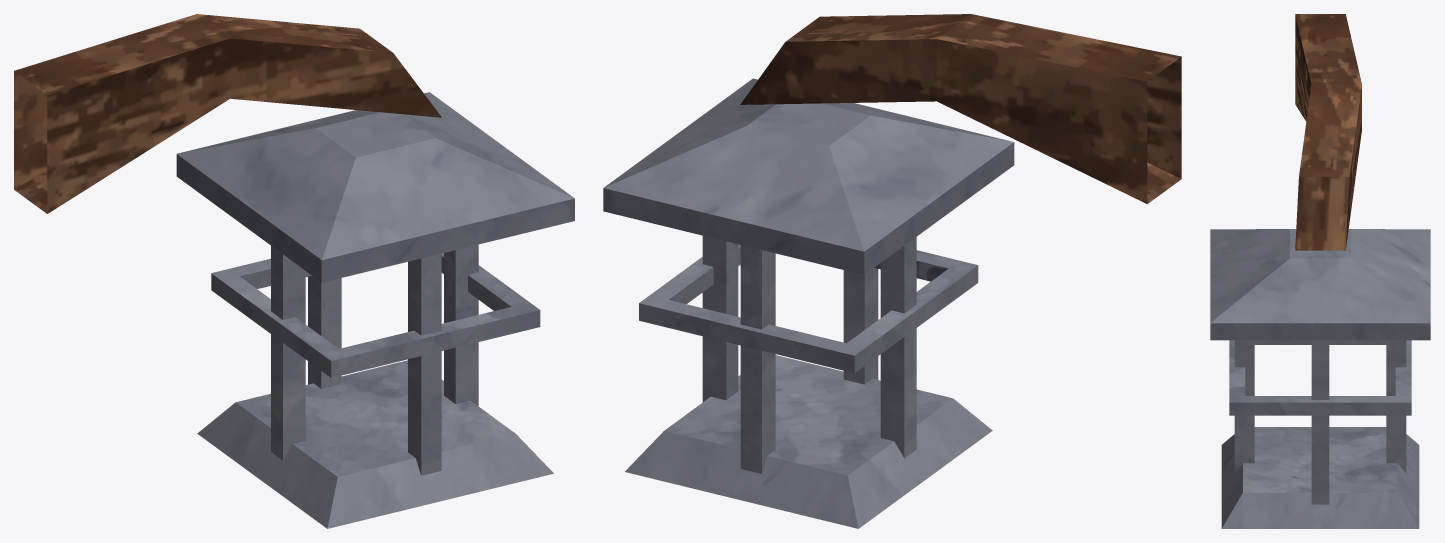
The model's file is lamp_1.fbx.
3 renders of one model, left to right at view 1: azimuth 30°, elevation 25°; view 2: azimuth 150°, elevation 25°; view 3: azimuth 270°, elevation 25°, orthographic. The views are drawn at different scales.
Parts seen in each view (by area): view 1: Cube.002; view 2: Cube.002; view 3: Cube.002.
Boxes of the visible parts, <box> form: Cube.002: <box>14,14,574,528</box>; Cube.002: <box>603,14,1181,528</box>; Cube.002: <box>1210,14,1430,528</box>.
Size of the model in its own units: 57.51 by 54.88 by 30.69.
